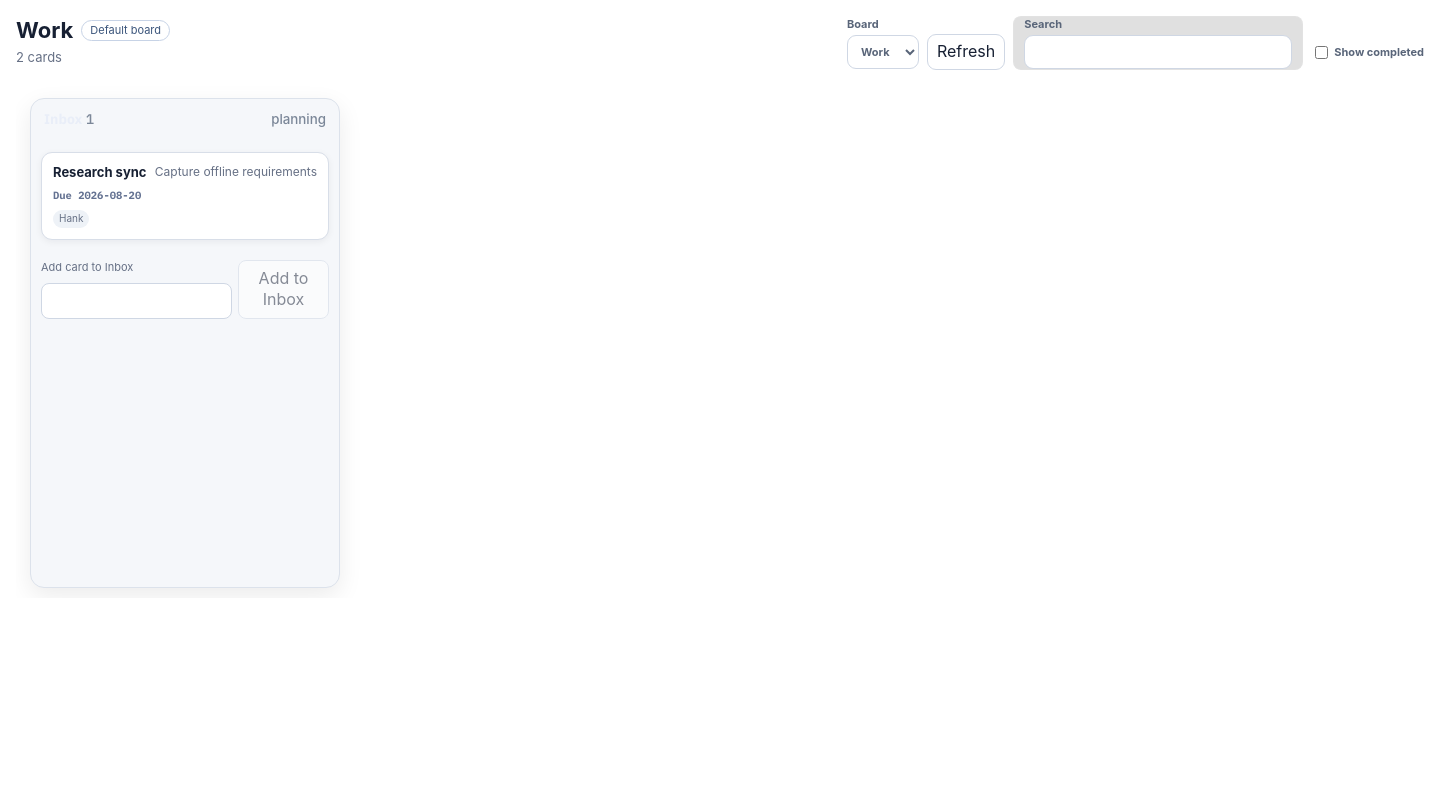
it: KanbanApp browsing › retains the card after a deletion failure and offers reload
Click the button "Research sync".
click(100, 172)  # box [41,152,329,240]
(page scrolled)
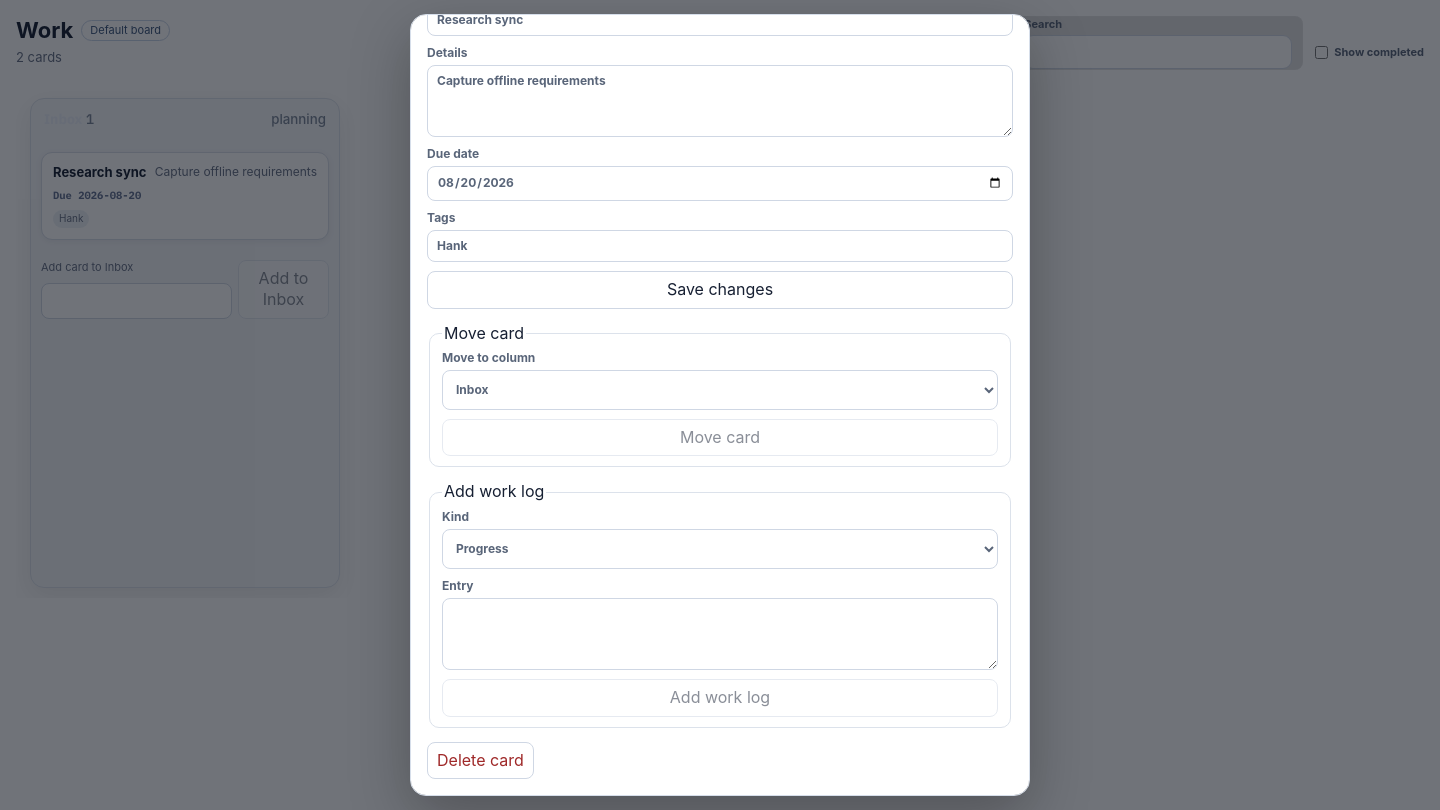
Click the button "Delete card".
click(480, 760)  # box [427,742,534,779]
(page scrolled)
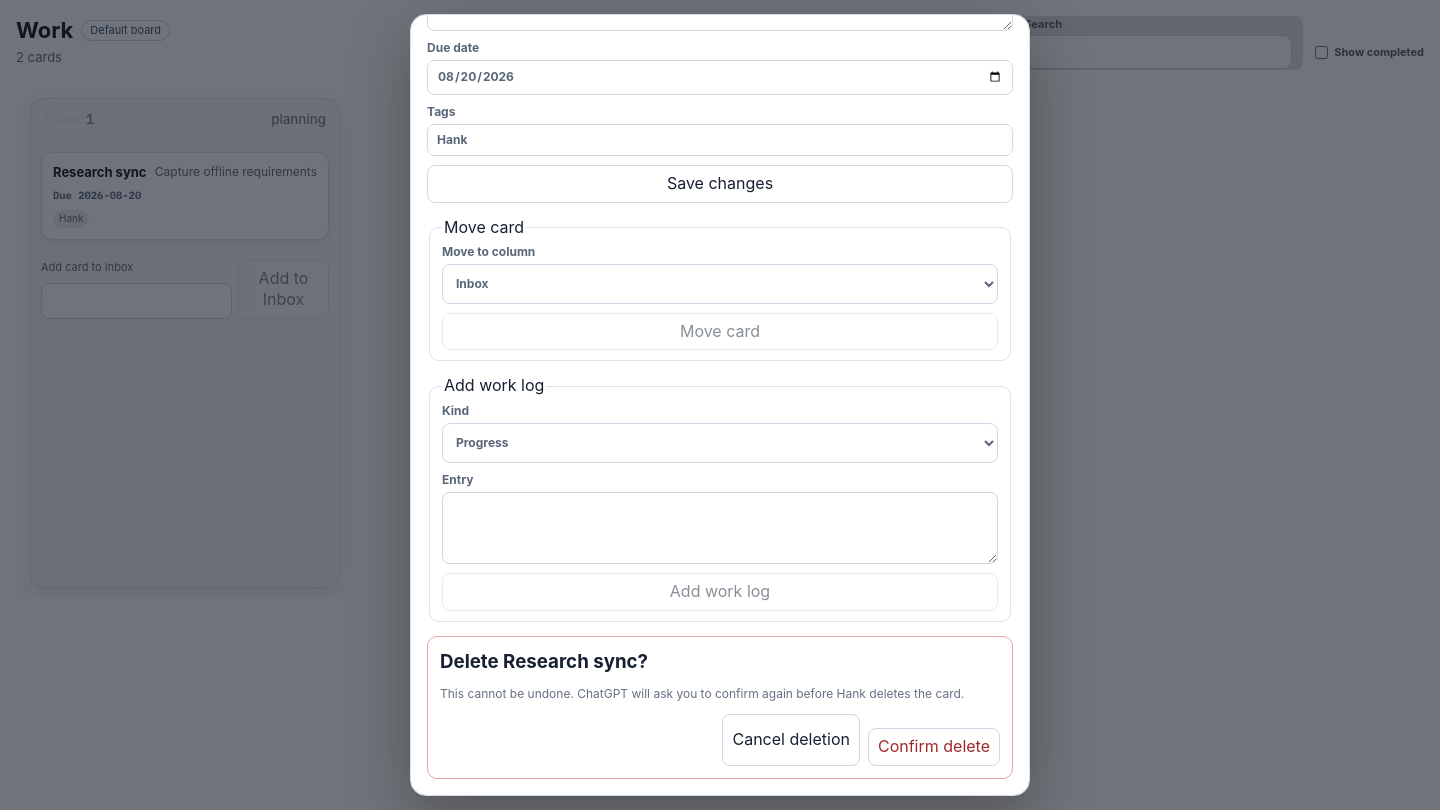
Click the button with aria-label "Confirm delete Research sync".
click(934, 747)  # box [868,728,1000,766]
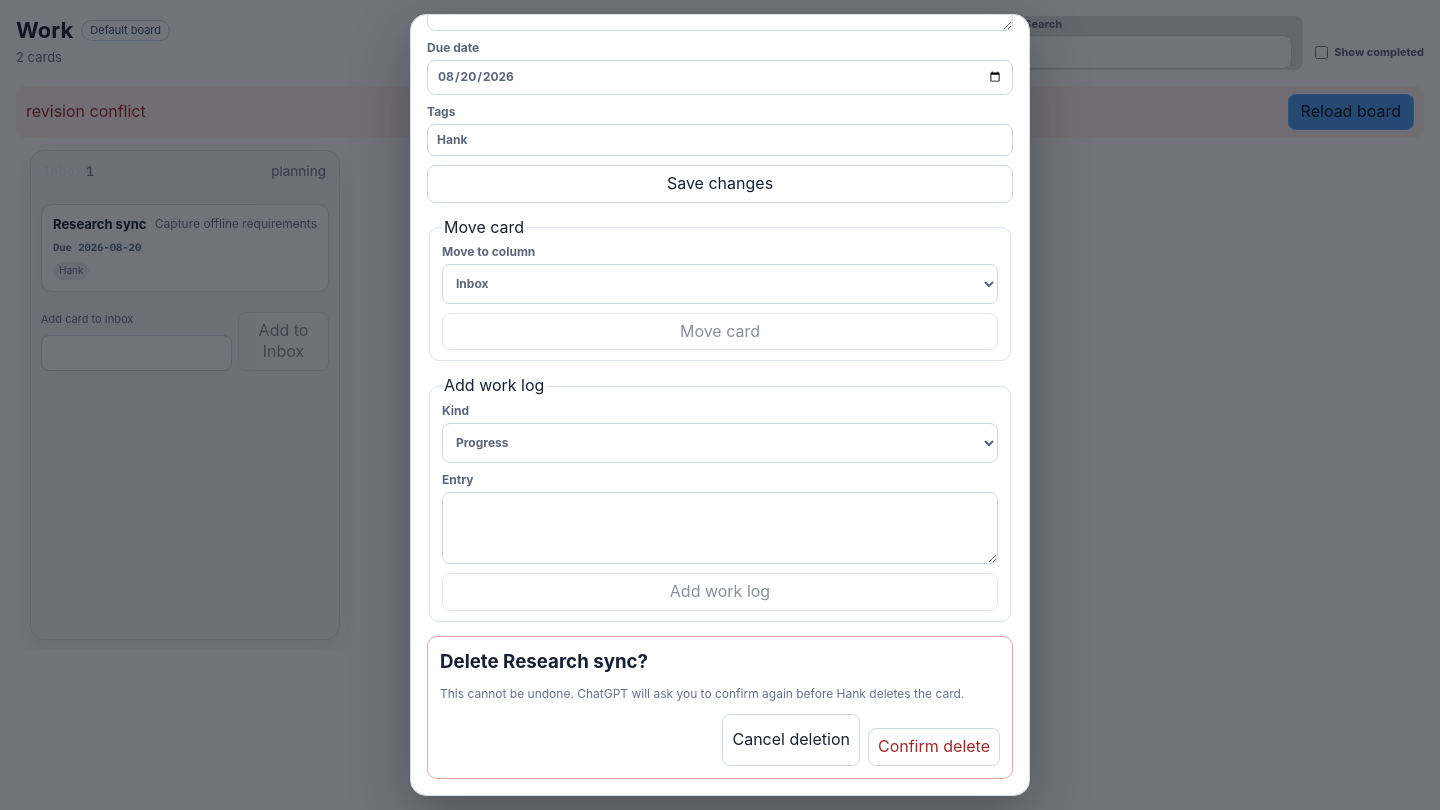
Check: the message shows "revision conflict", box [26,101,146,121]
Check: the button "Reload board" is shown, box [1288,94,1414,130]
